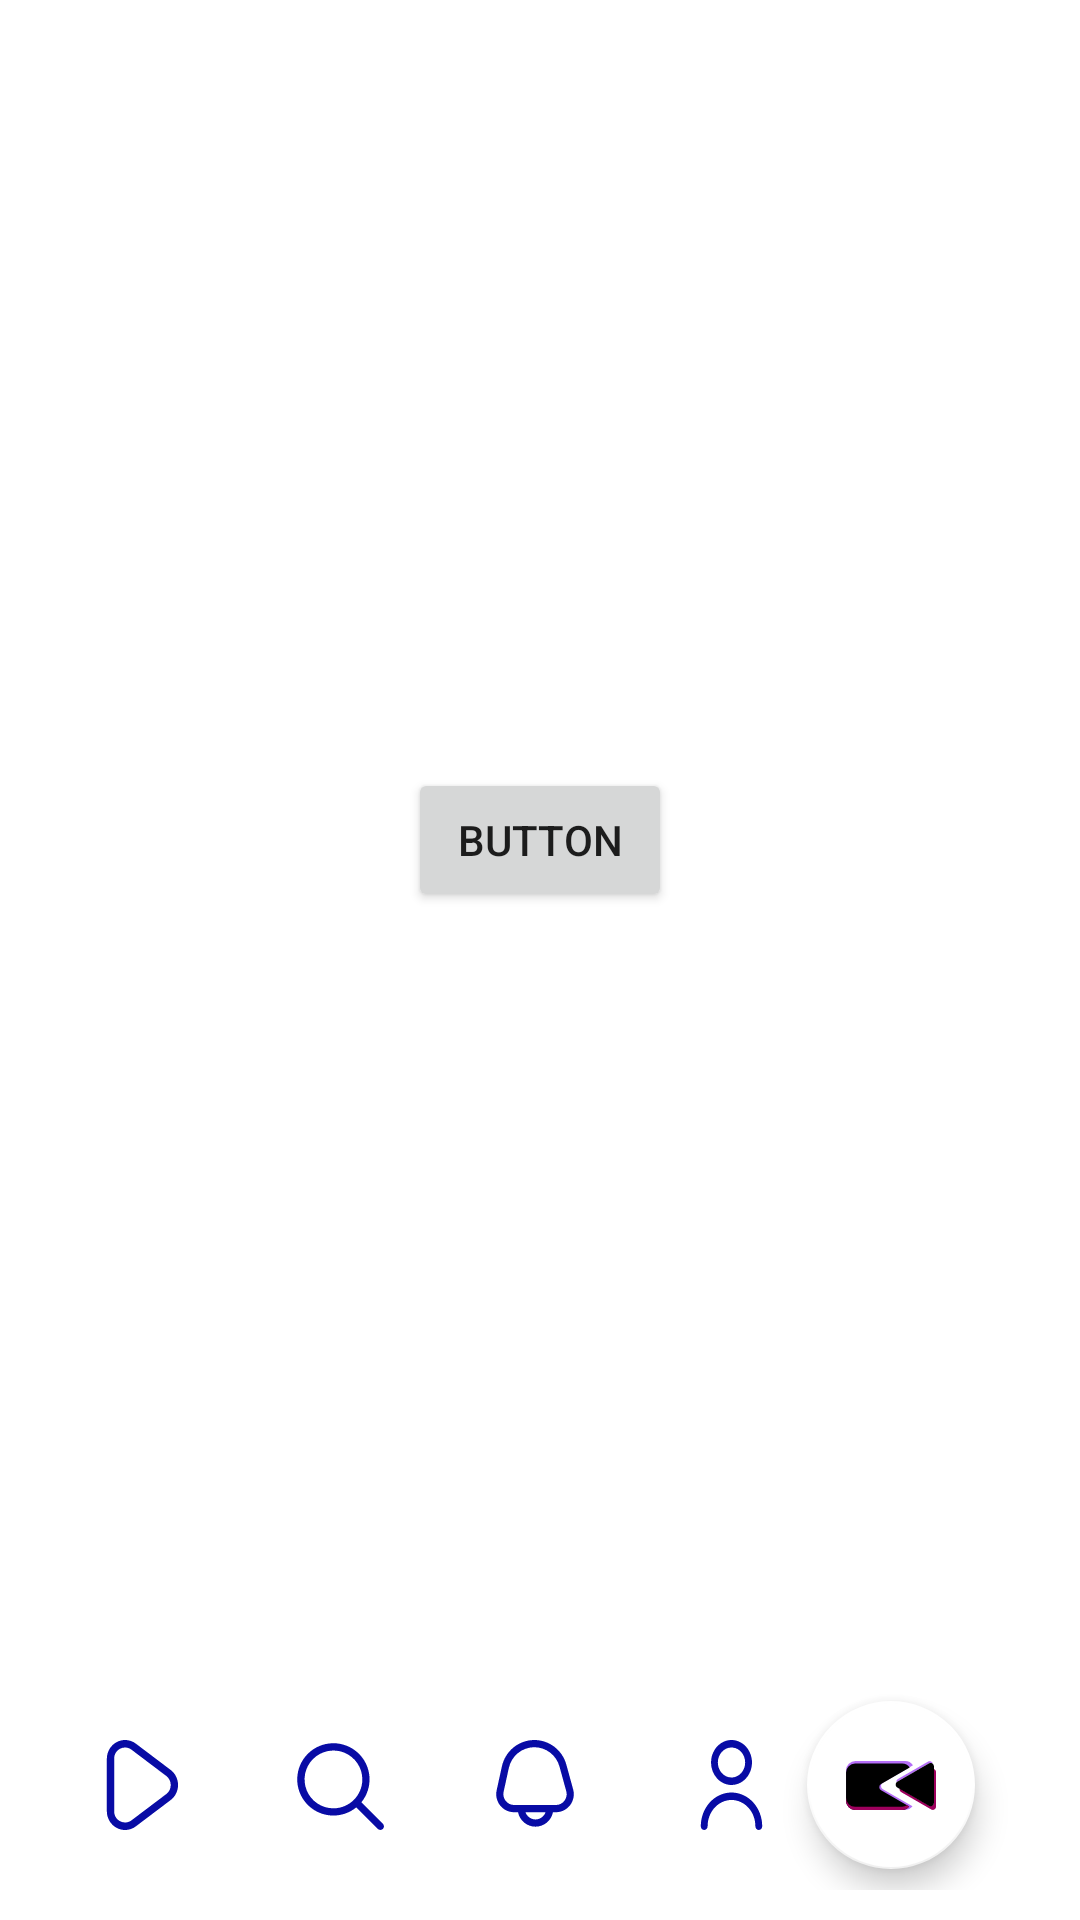

Named icons in this screenshot (1080*1920) and their centers, (x=x, y=y):
Поиск: (x=340, y=1786)
Профиль: (x=731, y=1785)
Уведомления: (x=535, y=1783)
